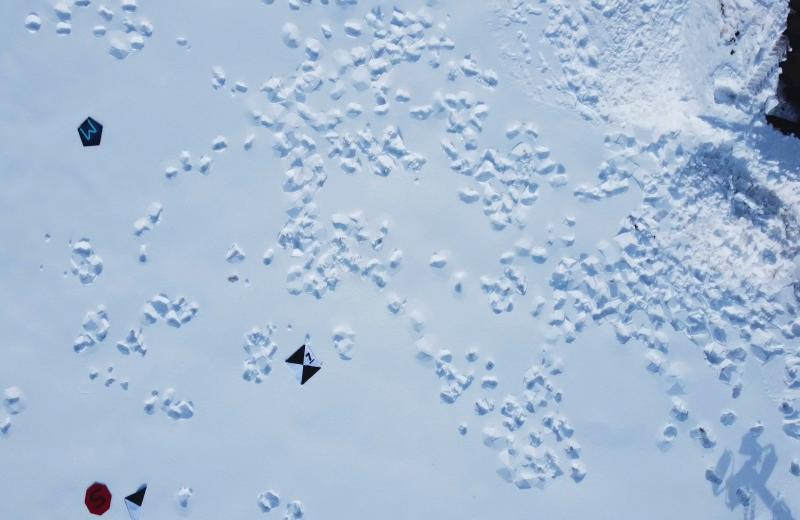Octagon: (82, 478, 115, 518)
Pentagon: (74, 115, 106, 149)
